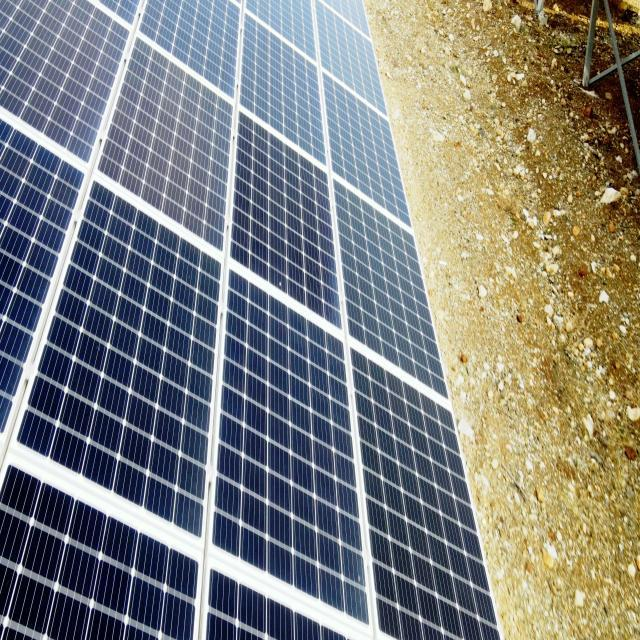no faulty: (15, 174, 226, 540), (208, 266, 374, 626), (368, 344, 500, 636), (99, 30, 237, 246), (230, 109, 348, 334), (333, 176, 444, 358), (240, 7, 330, 170), (324, 72, 414, 223)
